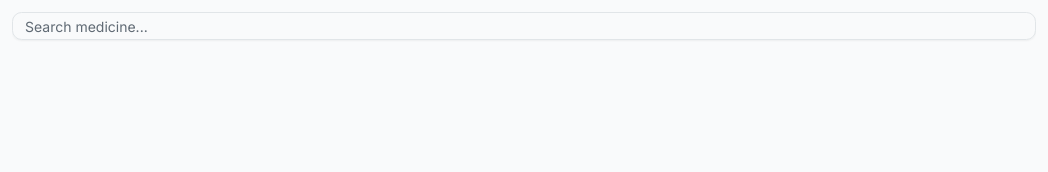
Test case: MedicineSelect › filters products when searching
Focus the dropdown at (524, 26), box [12,12,1036,40]
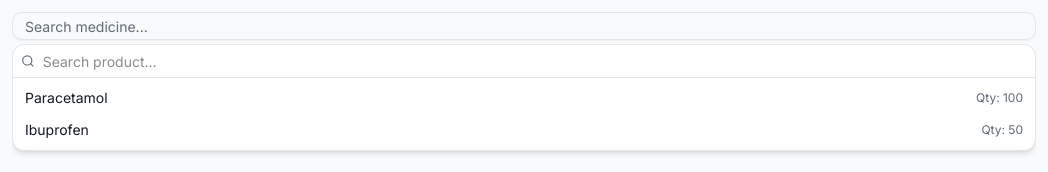
Expected: the text "Paracetamol" is shown, [25,88,108,108]
Type "Ibu" into the field with placeholder "Search product..." at (535, 61), box [43,45,1027,77]
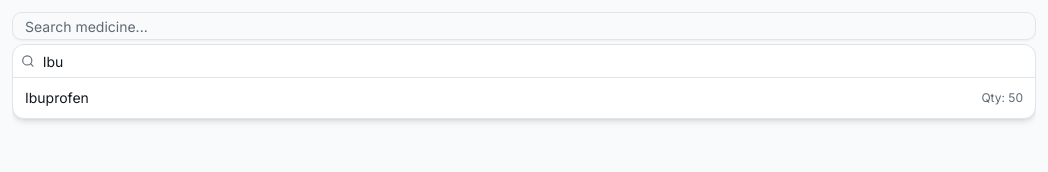
Expected: the text "Ibuprofen" is shown, [25,88,89,108]
Expected: the option "Paracetamol" is gone
